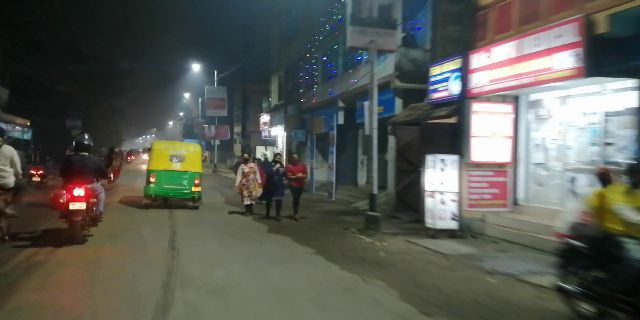Autorickshaw: (139, 134, 209, 212)
Motorbike: (54, 130, 114, 246)
